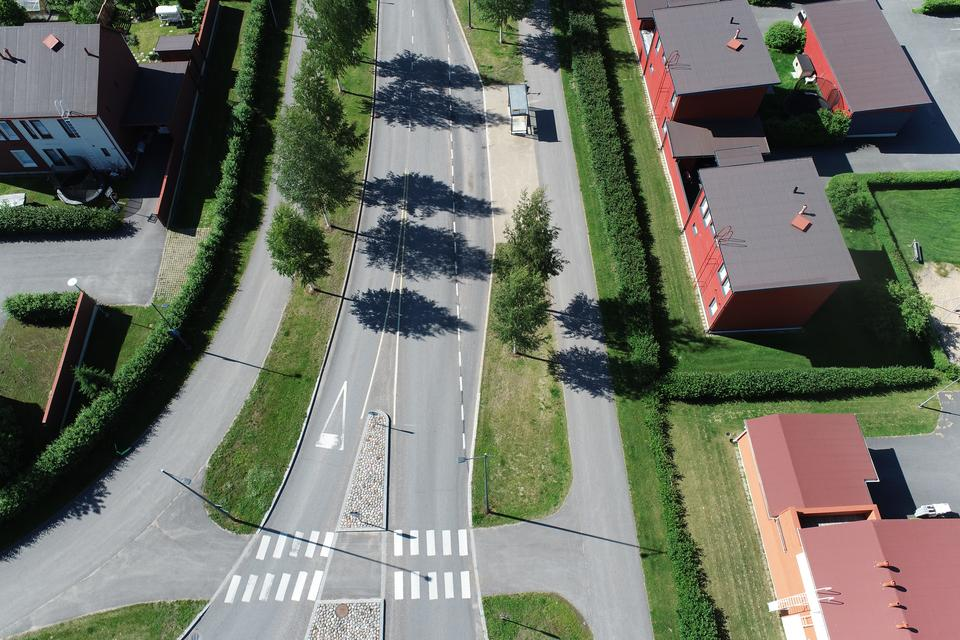intersection: (160, 473, 664, 640)
